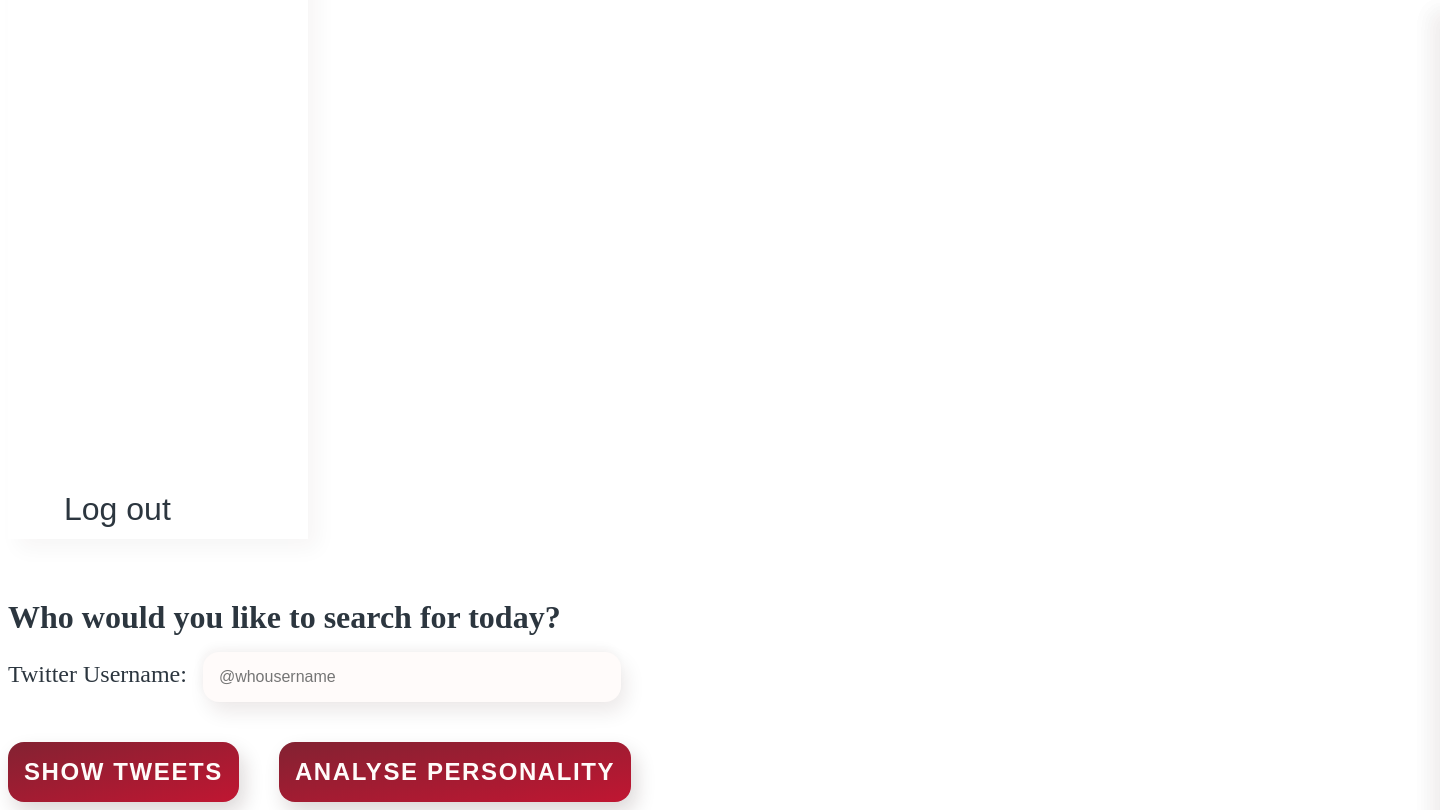
Test: User is able to get the personality › fetches the personality
(page scrolled)
Type "@johndoe" into the field with test id "userInput" at [412, 677], box [203,652,621,702]
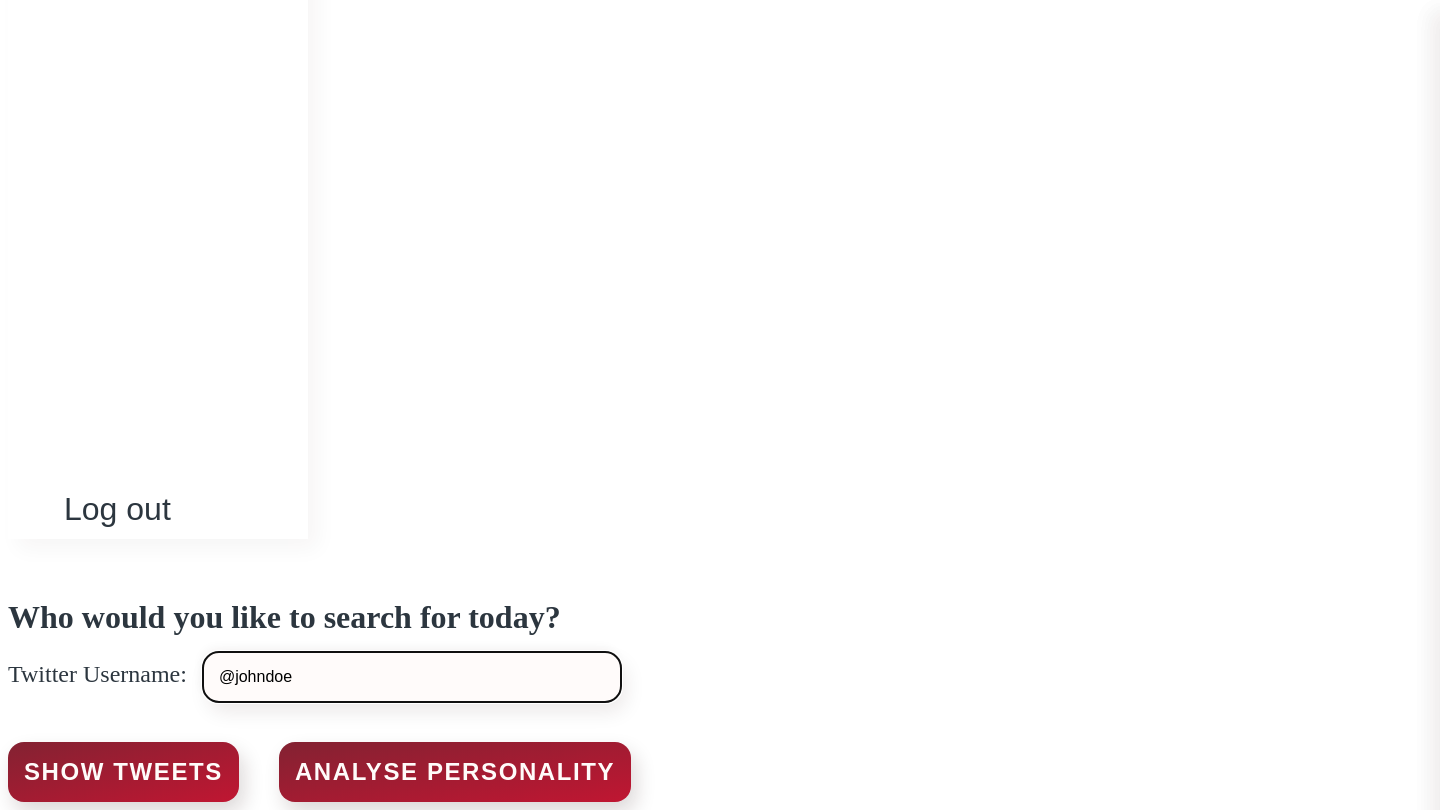
Expected: the field with test id "userInput" has attribute value="@johndoe", [203,652,621,702]
Click the button with test id "personalityTest" at [455, 772], box [279,742,631,802]
(page scrolled)
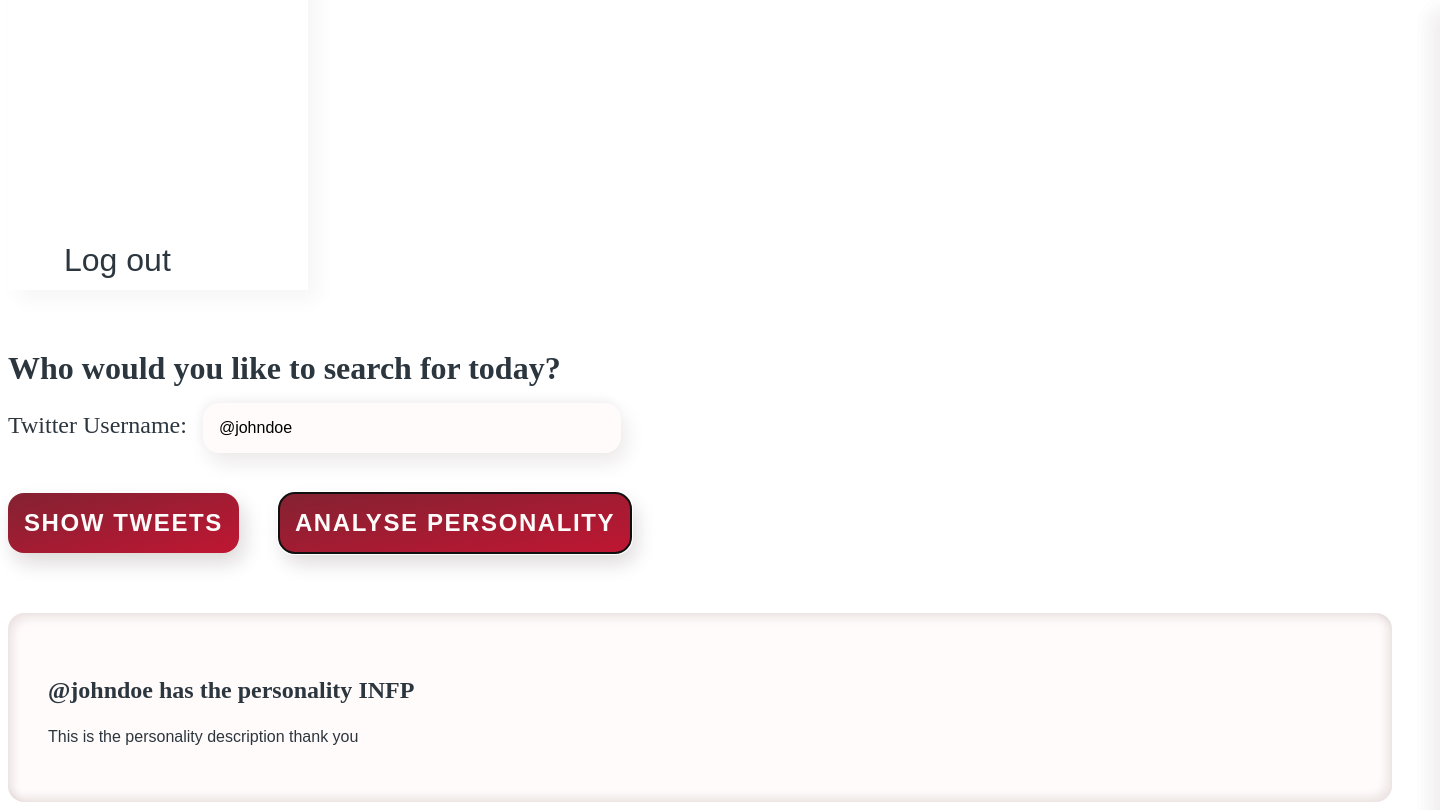
Expected: the text "@johndoe has the personality INFP" is shown, [48,677,414,703]
